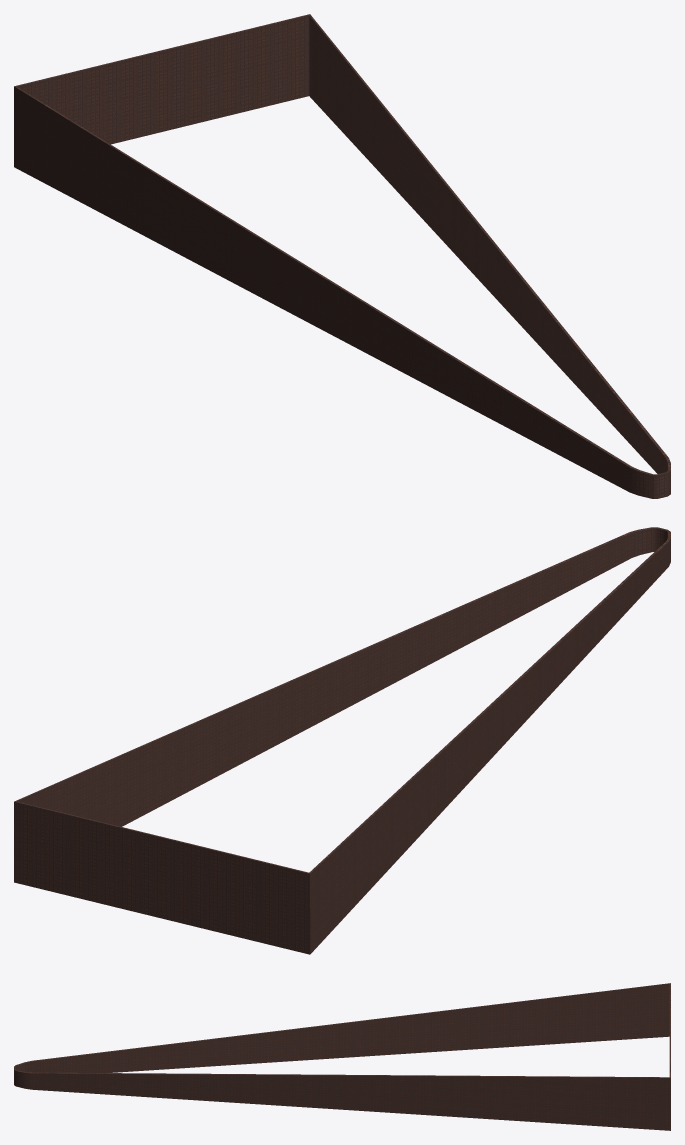
The model's file is Walls.glb.
The picture shows the model from 3 angles, top to bottom: view 1: azimuth 30°, elevation 25°; view 2: azimuth 150°, elevation 25°; view 3: azimuth 270°, elevation 25°; orthographic projection. The views are drawn at different scales.
Parts seen in each view (by area): view 1: Walls; view 2: Walls; view 3: Walls.
Part boxes in pixels (x1,y1,x2,y2): Walls: (14, 14, 670, 498); Walls: (14, 527, 670, 954); Walls: (14, 983, 670, 1130).
Bounding box in the file's own units: 76.65 × 20 × 225.
1 material, 1 textured.
